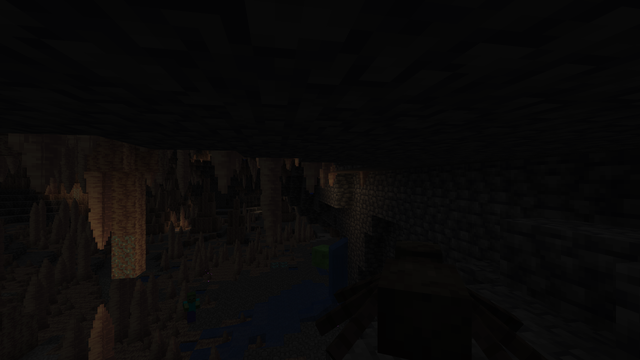araignees: (338, 232, 541, 359)
slimes: (313, 244, 332, 268)
zombies: (185, 291, 197, 325)
